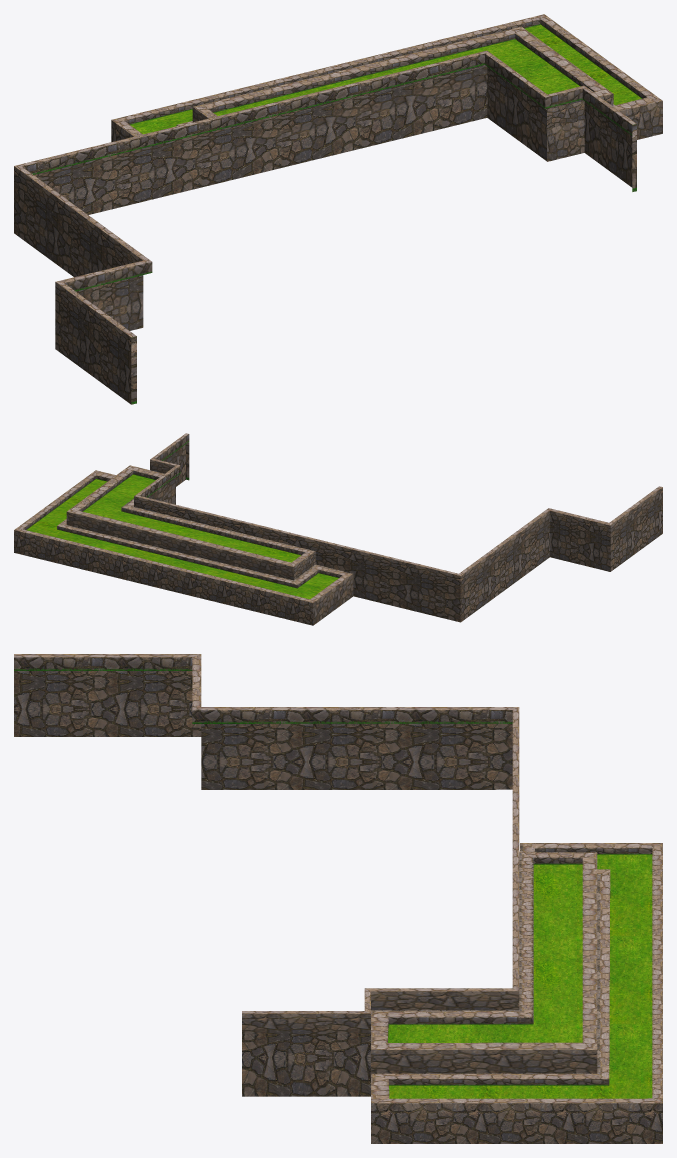
The model's file is house_0130002_tianti.FBX.
3 renders of one model, top to bottom at view 1: azimuth 30°, elevation 25°; view 2: azimuth 150°, elevation 25°; view 3: azimuth 270°, elevation 25°, orthographic. The views are drawn at different scales.
Parts seen in each view (by area): view 1: house_0130002_tianti; view 2: house_0130002_tianti; view 3: house_0130002_tianti.
Boxes of the visible parts, bbox=[...] form: house_0130002_tianti: bbox=[14, 14, 662, 404]; house_0130002_tianti: bbox=[14, 433, 662, 625]; house_0130002_tianti: bbox=[14, 654, 662, 1143].
Bounding box in the file's own units: 6754 × 643 × 4554.
Materials: 2 (2 with a texture image).
